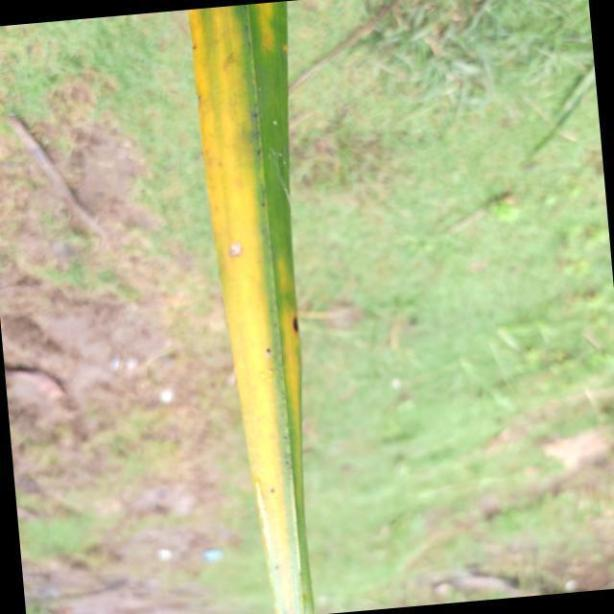Megnesium: (192, 0, 316, 614)
